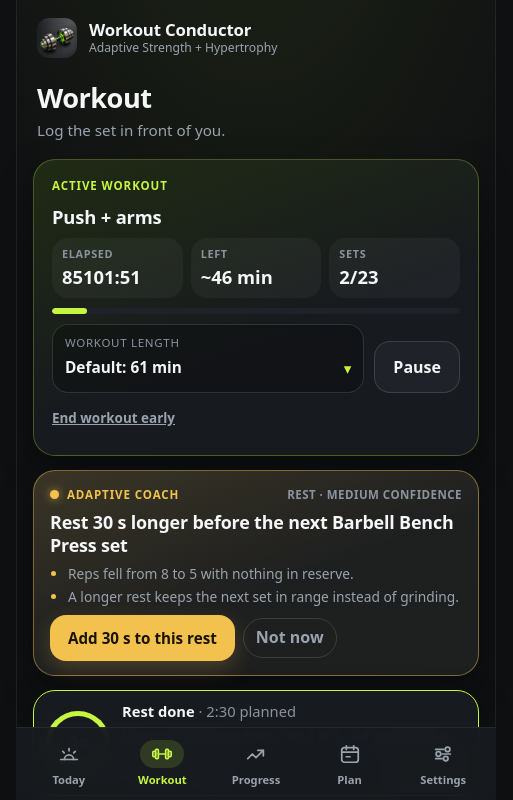
Scenario: the coach’s longer rest on the Workout tab › adds its 30 s once, and the card goes
Check: the heading with test id "coach-headline" reads "Rest 30 s longer before the next Barbell Bench Press set", box [50,510,454,557]
Click the button "Add 30 s to this rest" at (142, 638), box [50,615,235,661]
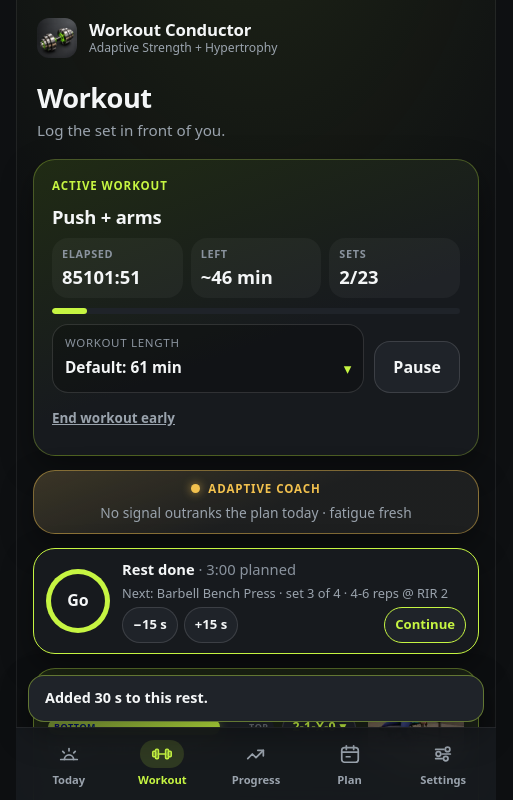
Check: the text "Added 30 s to this rest." is shown, box [28,675,484,722]
Check: the button "Add 30 s to this rest" is gone
